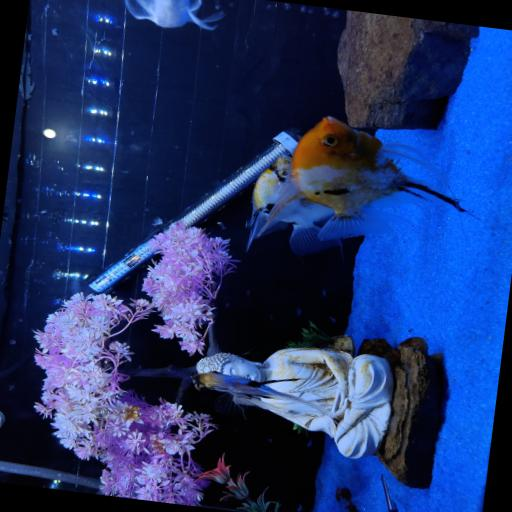Fish: (258, 117, 467, 240), (247, 155, 340, 256), (193, 371, 336, 419), (125, 0, 224, 30)
